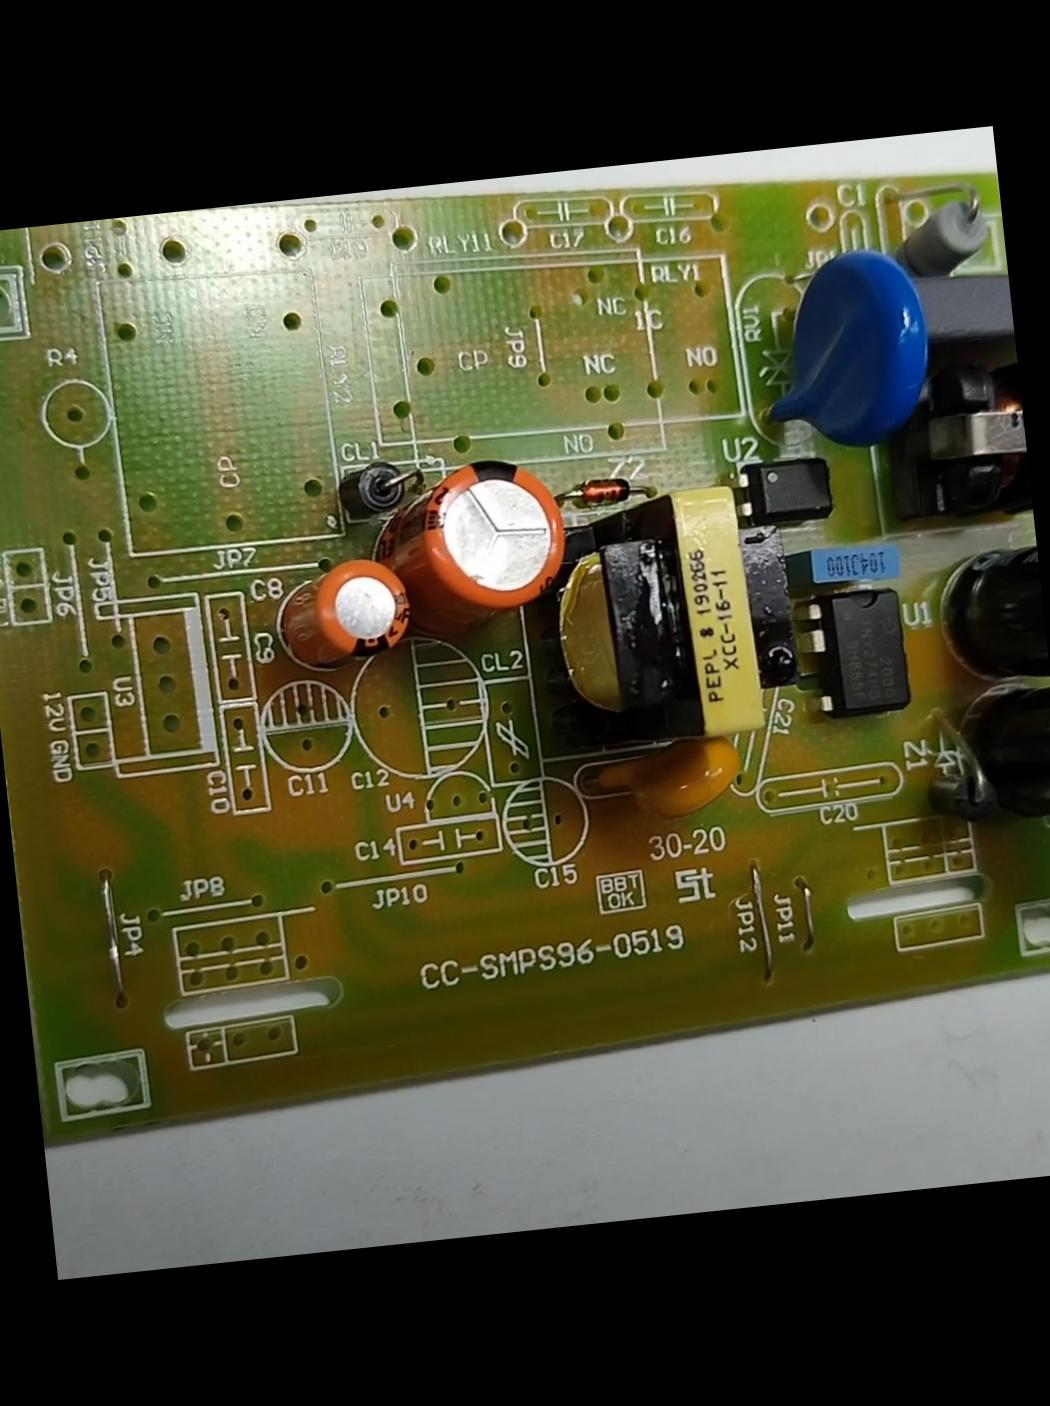Cap1: (378, 447, 572, 626)
Cap2: (266, 554, 419, 668)
Cap3: (915, 536, 1049, 696)
Cap4: (963, 685, 1049, 837)
MOSFET: (802, 583, 915, 720)
Mov: (751, 240, 939, 461)
Resistor: (898, 185, 997, 276)
Transformer: (496, 479, 802, 755), (886, 354, 1032, 528)
